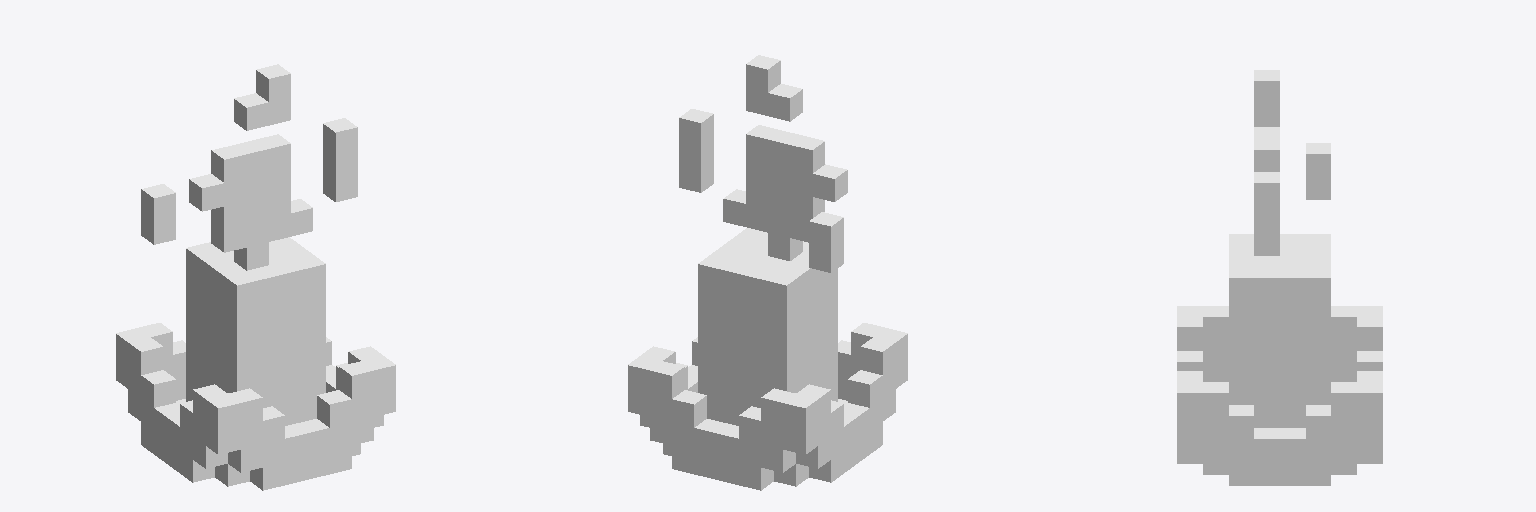
The model's file is candle.obj.
3 views of the same model, side by side, from view 1: azimuth 30°, elevation 25°; view 2: azimuth 150°, elevation 25°; view 3: azimuth 270°, elevation 25° (orthographic).
Parts seen in each view (by area): view 1: candle, candle.001, candle.003, candle.002; view 2: candle, candle.001, candle.003, candle.002; view 3: candle, candle.001, candle.003, candle.002.
Boxes of the visible parts, <box> form: candle: <box>116,134,395,490</box>; candle.001: <box>323,118,357,201</box>; candle.003: <box>234,64,290,130</box>; candle.002: <box>141,184,175,244</box>; candle: <box>628,125,907,490</box>; candle.001: <box>679,109,713,192</box>; candle.003: <box>746,55,802,121</box>; candle.002: <box>809,212,843,272</box>; candle: <box>1177,127,1382,485</box>; candle.001: <box>1254,172,1279,252</box>; candle.003: <box>1254,70,1279,126</box>; candle.002: <box>1306,143,1330,199</box>.
Size of the model in its own units: 0.8 by 1.6 by 0.8.